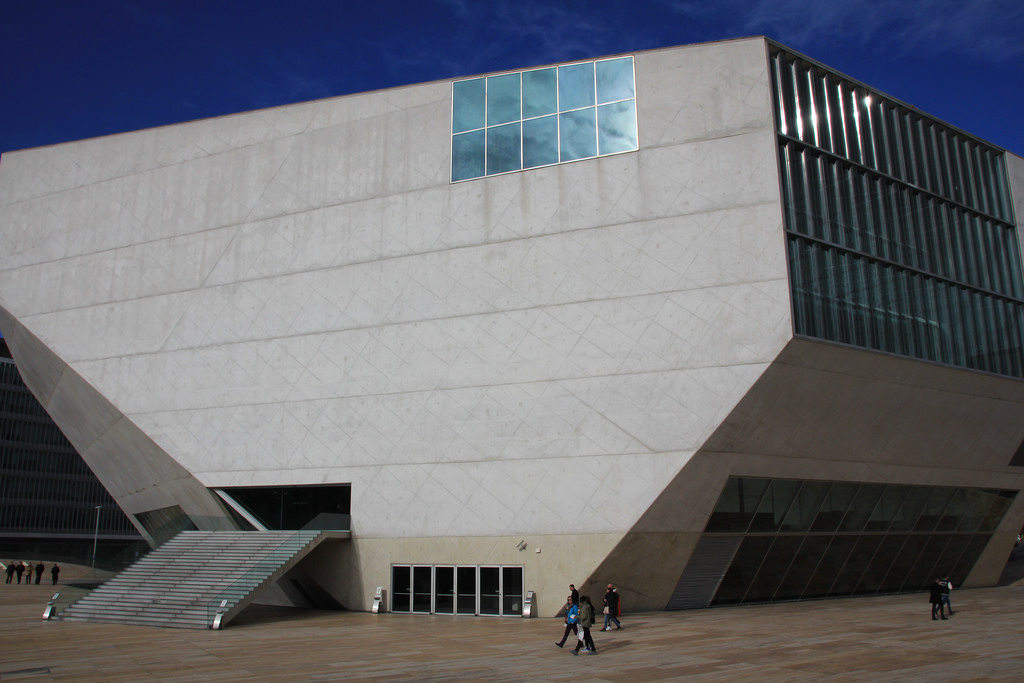musica: (0, 30, 1023, 617)
